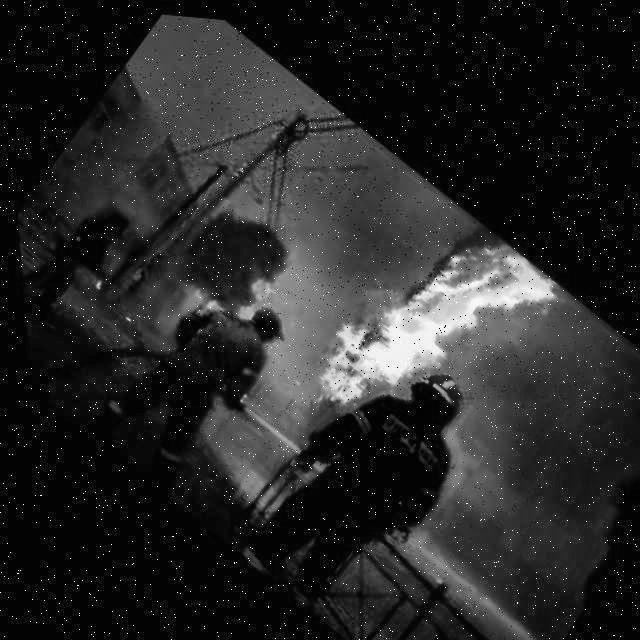Fire: (279, 164, 577, 482), (177, 228, 291, 346)
